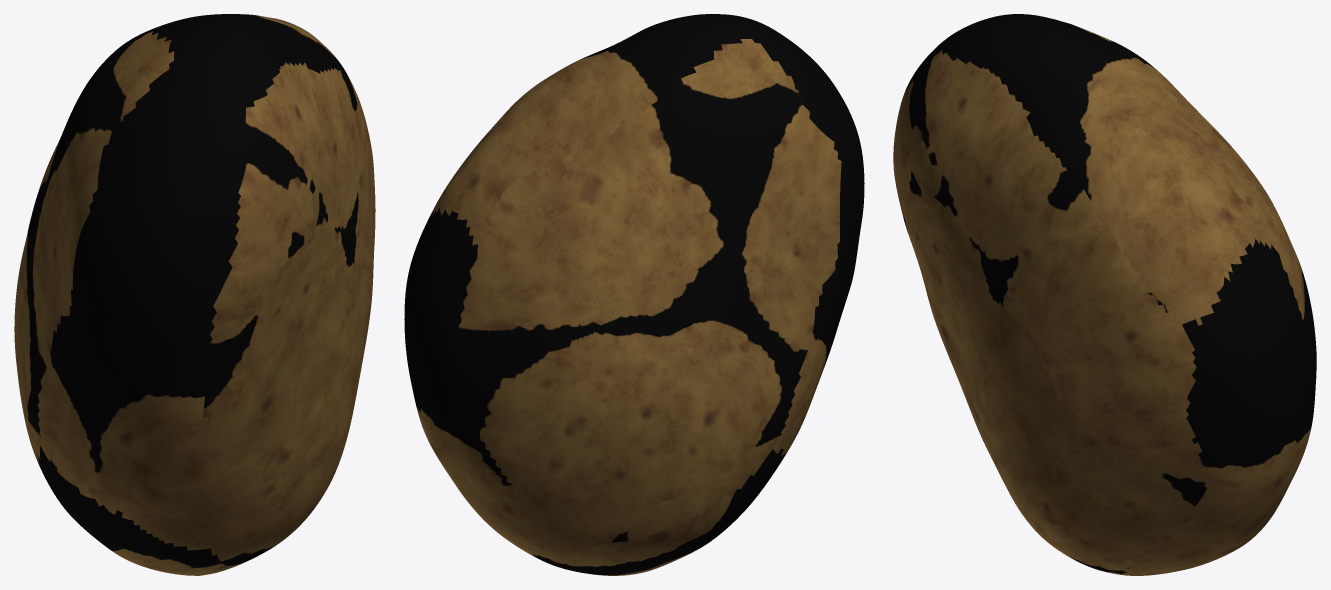
3 views of the same model, side by side, from view 1: azimuth 30°, elevation 25°; view 2: azimuth 150°, elevation 25°; view 3: azimuth 270°, elevation 25° (orthographic). The views are drawn at different scales.
Visible parts, largest first — view 1: original_ico.022; view 2: original_ico.022; view 3: original_ico.022.
Boxes of the visible parts, bbox=[...] form: original_ico.022: bbox=[14, 14, 375, 575]; original_ico.022: bbox=[404, 14, 864, 575]; original_ico.022: bbox=[893, 14, 1316, 575].
Bounding box in the file's own units: 2.25 × 3.3 × 2.41.
